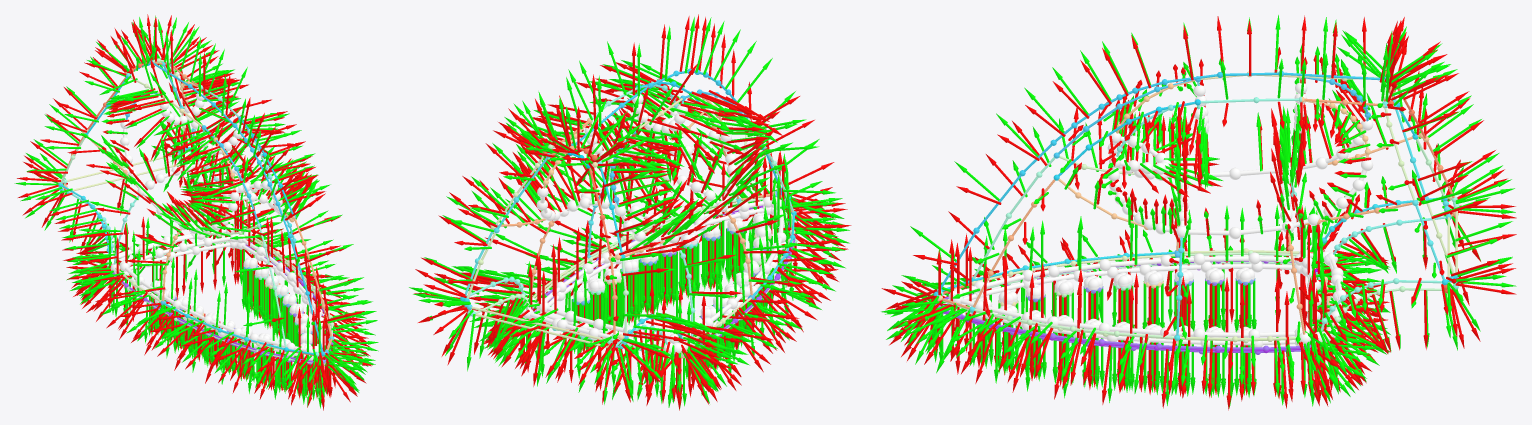
File: onshape_iron.gltf
3 renders of one model, left to right at view 1: azimuth 30°, elevation 25°; view 2: azimuth 150°, elevation 25°; view 3: azimuth 270°, elevation 25°, orthographic. The views are drawn at different scales.
Bounding box in the file's own units: 0.5357 × 0.6188 × 1.03.
